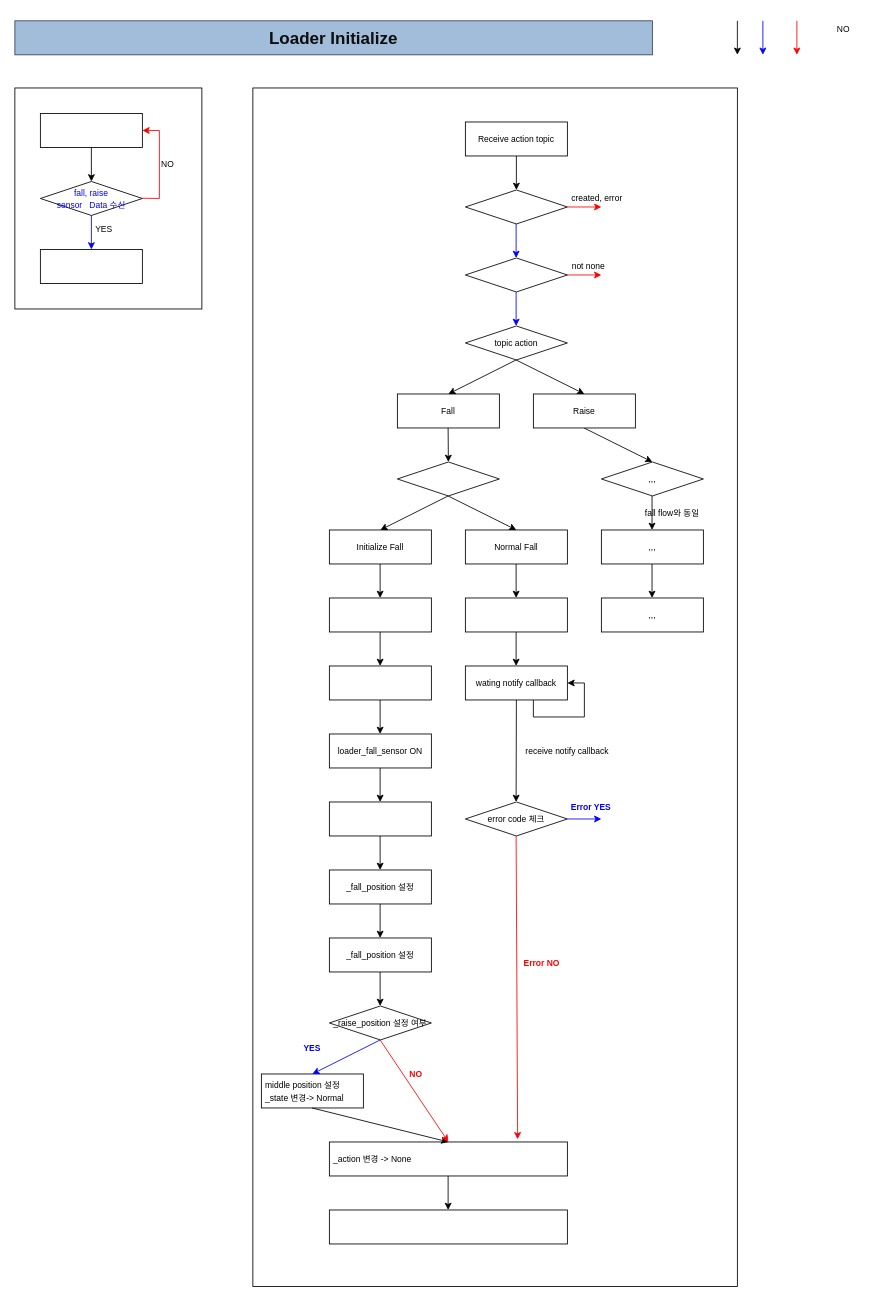
The diagram is 888 pixels wide and 1301 high, and some of its shapes have lost their labels. Here are the shapes that lost their labels. From the top down, the centre of each, then its label:
At point (91, 130): "Wating for the sensor signal".
At point (516, 206): "unit state check".
At point (91, 266): "unit state 변경 -> Active".
At point (516, 274): "unit action check".
At point (448, 478): "_fall_position check".
At point (380, 614): "execute_fall_action() 목적지 없는 fall 동작".
At point (516, 614): "_fall_position으로 이동".
At point (380, 682): "wating fall sensor on".
At point (380, 818): "motor stop".
At point (448, 1226): "action complete 보고 (topic PUB)".
